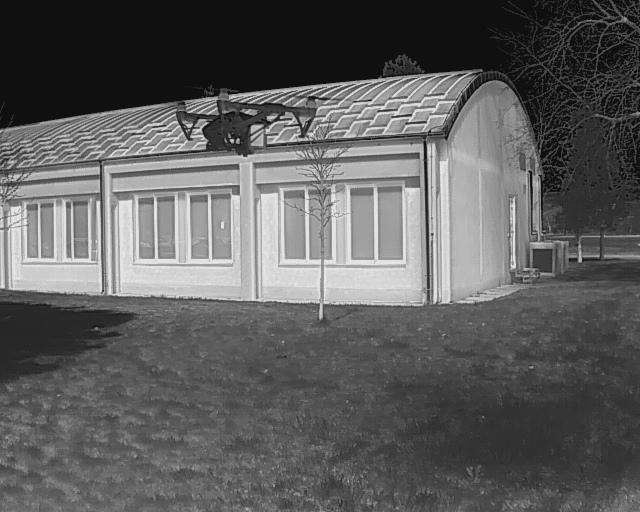drone: (151, 63, 352, 185)
